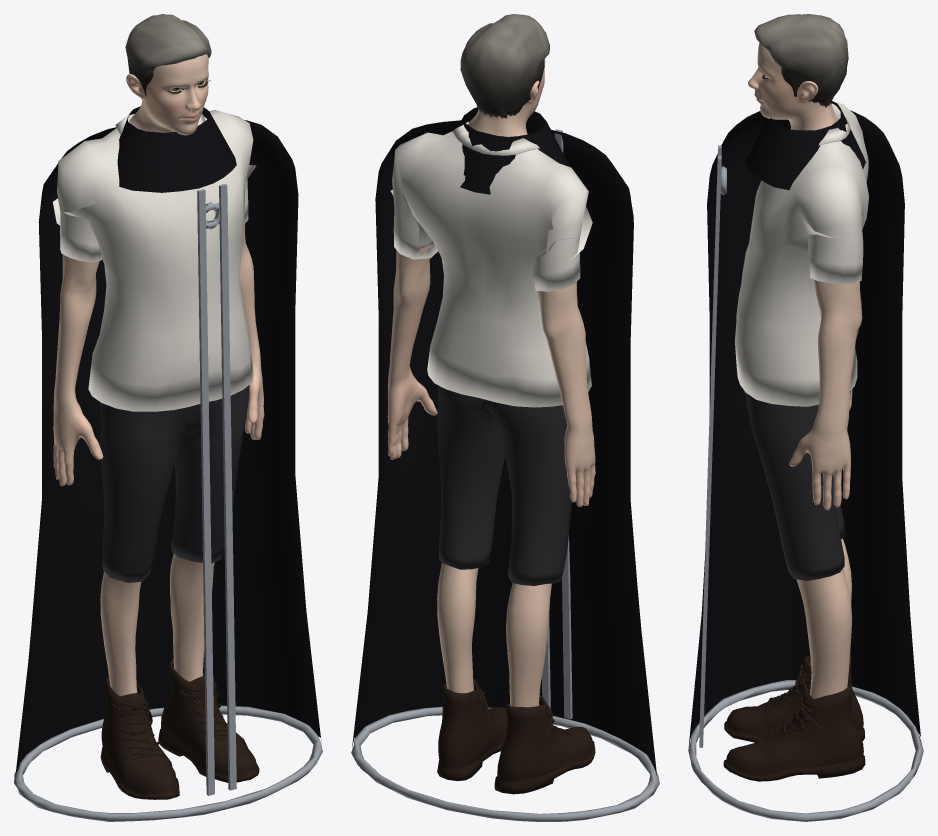
Rendered from moray.glb.
The picture shows the model from 3 angles, left to right: view 1: azimuth 30°, elevation 25°; view 2: azimuth 150°, elevation 25°; view 3: azimuth 270°, elevation 25°; orthographic projection.
Parts seen in each view (by area): view 1: object 10, T-Shirt, Body, Shorts, Shoes, object 12, object 8, object 9, object 11, Hair; view 2: object 10, T-Shirt, Body, Shorts, Shoes, Hair, object 11, object 12, object 8; view 3: object 10, T-Shirt, Body, Shoes, Shorts, Hair, object 11, object 12, object 9, object 8.
Boxes of the visible parts, x1,y1,x2,y2 form: object 10: [15, 120, 321, 775]; T-Shirt: [53, 109, 256, 411]; Body: [53, 54, 264, 696]; Shorts: [100, 385, 249, 582]; Shoes: [100, 658, 259, 799]; object 12: [117, 106, 236, 192]; object 8: [197, 189, 214, 795]; object 9: [219, 184, 236, 790]; object 11: [14, 705, 322, 821]; Hair: [125, 14, 211, 98]; object 10: [352, 120, 656, 775]; T-Shirt: [390, 122, 592, 407]; Body: [387, 59, 595, 707]; Shorts: [437, 385, 571, 585]; Shoes: [437, 679, 595, 794]; Hair: [460, 14, 549, 118]; object 11: [351, 706, 659, 821]; object 12: [458, 107, 569, 194]; object 8: [554, 129, 572, 719]; object 10: [688, 110, 920, 749]; T-Shirt: [735, 101, 868, 406]; Body: [748, 42, 862, 698]; Shoes: [723, 654, 865, 781]; Shorts: [743, 389, 850, 580]; Hair: [754, 14, 848, 107]; object 11: [688, 680, 923, 821]; object 12: [746, 101, 865, 189]; object 9: [699, 155, 721, 747]; object 8: [699, 145, 721, 736].
Size of the model in its own units: 0.7577 by 1.89 by 0.5456.
